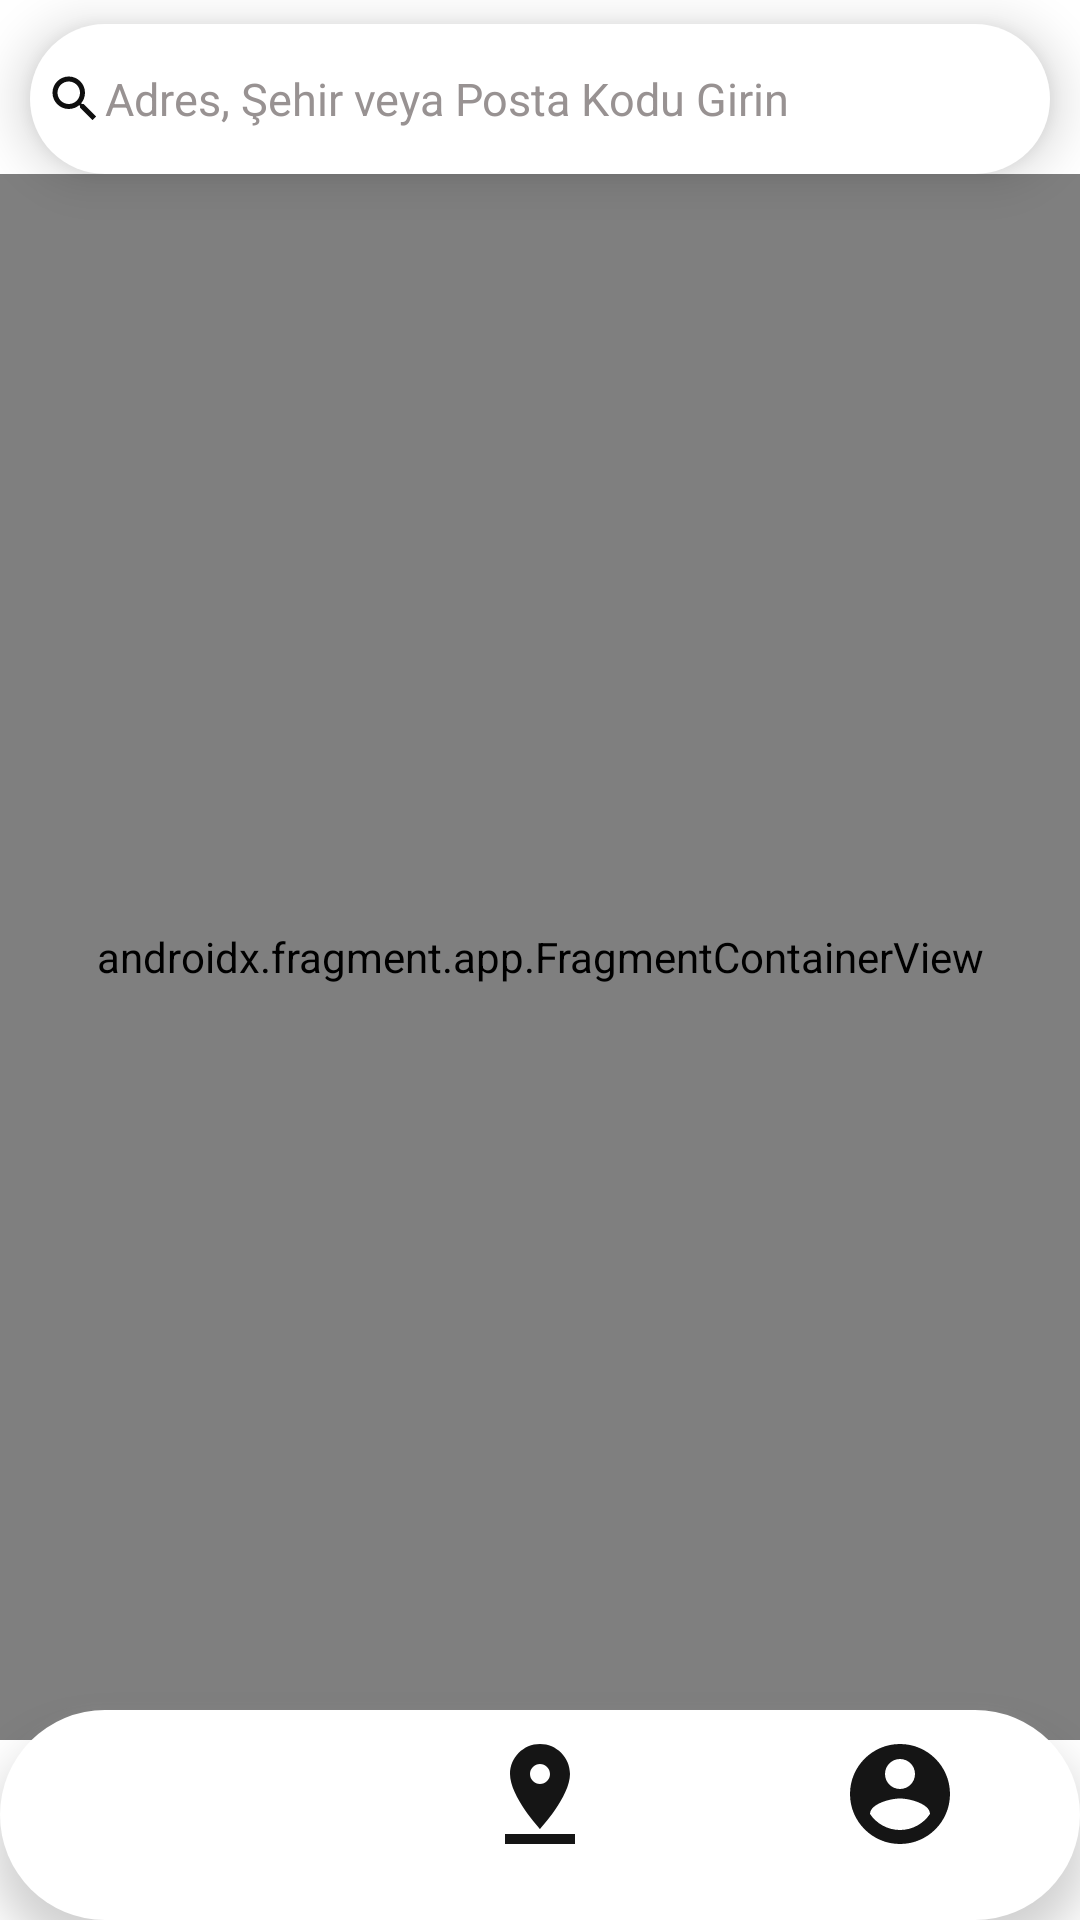

Screen size 1080px×1920px. Icon name, then its box in pixels as (x1, y1, x2, y2):
search: (52, 76, 96, 120)
